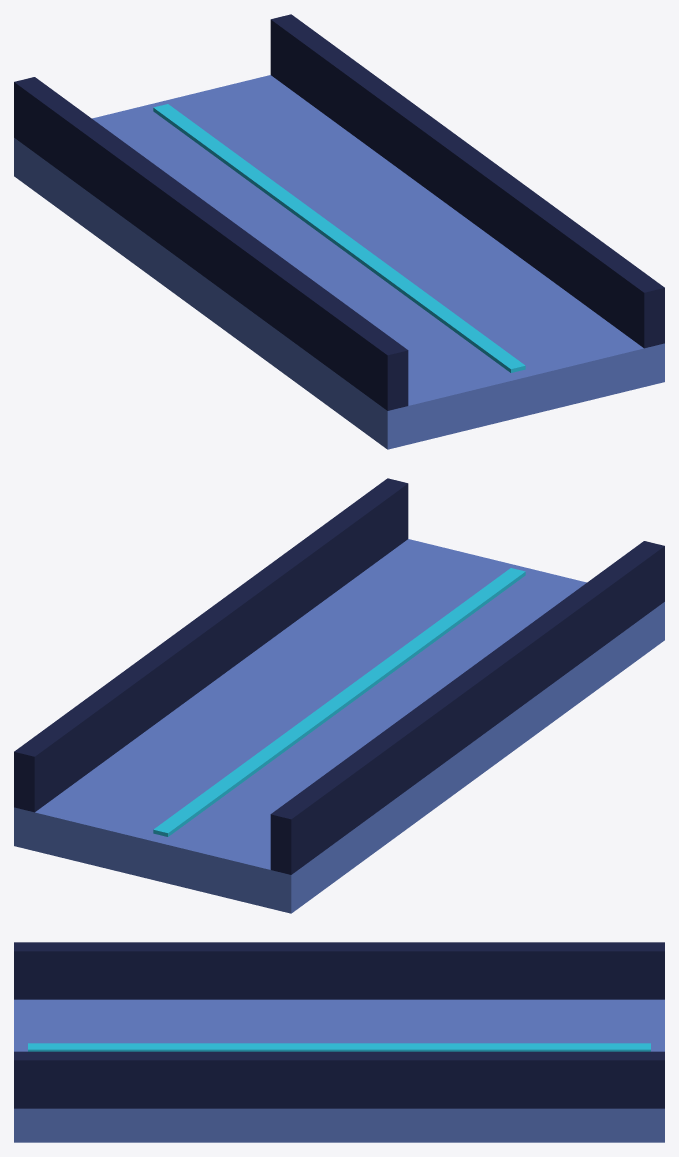
File: discovery_bridge.obj
3 views of the same model, one above another, from view 1: azimuth 30°, elevation 25°; view 2: azimuth 150°, elevation 25°; view 3: azimuth 270°, elevation 25° (orthographic). The views are drawn at different scales.
Visible parts, largest first — view 1: discovery_bridge; view 2: discovery_bridge; view 3: discovery_bridge.
Part boxes in pixels (left/top/right/bottom): discovery_bridge: left=14, top=14, right=664, bottom=449; discovery_bridge: left=14, top=478, right=664, bottom=913; discovery_bridge: left=14, top=942, right=664, bottom=1142.
Size of the model in its own units: 6 by 1.95 by 14.
